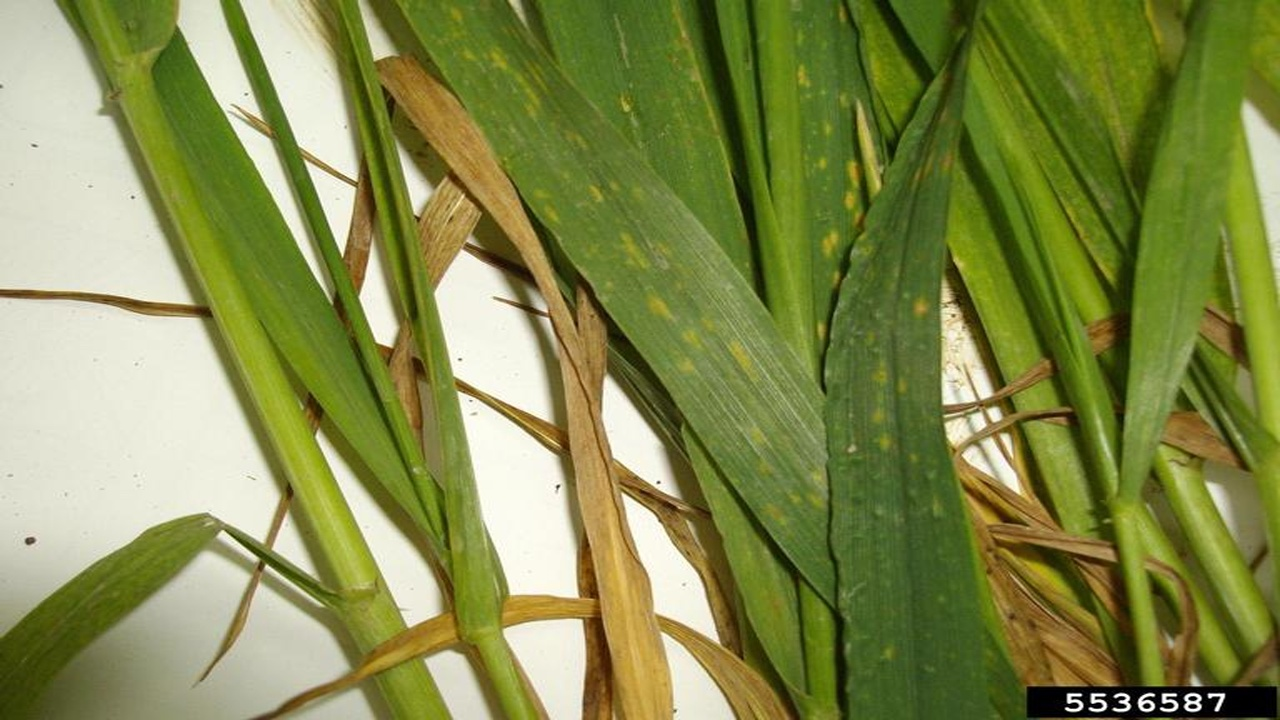tan_spot: (398, 1, 830, 538), (836, 38, 975, 720), (792, 4, 870, 371)
